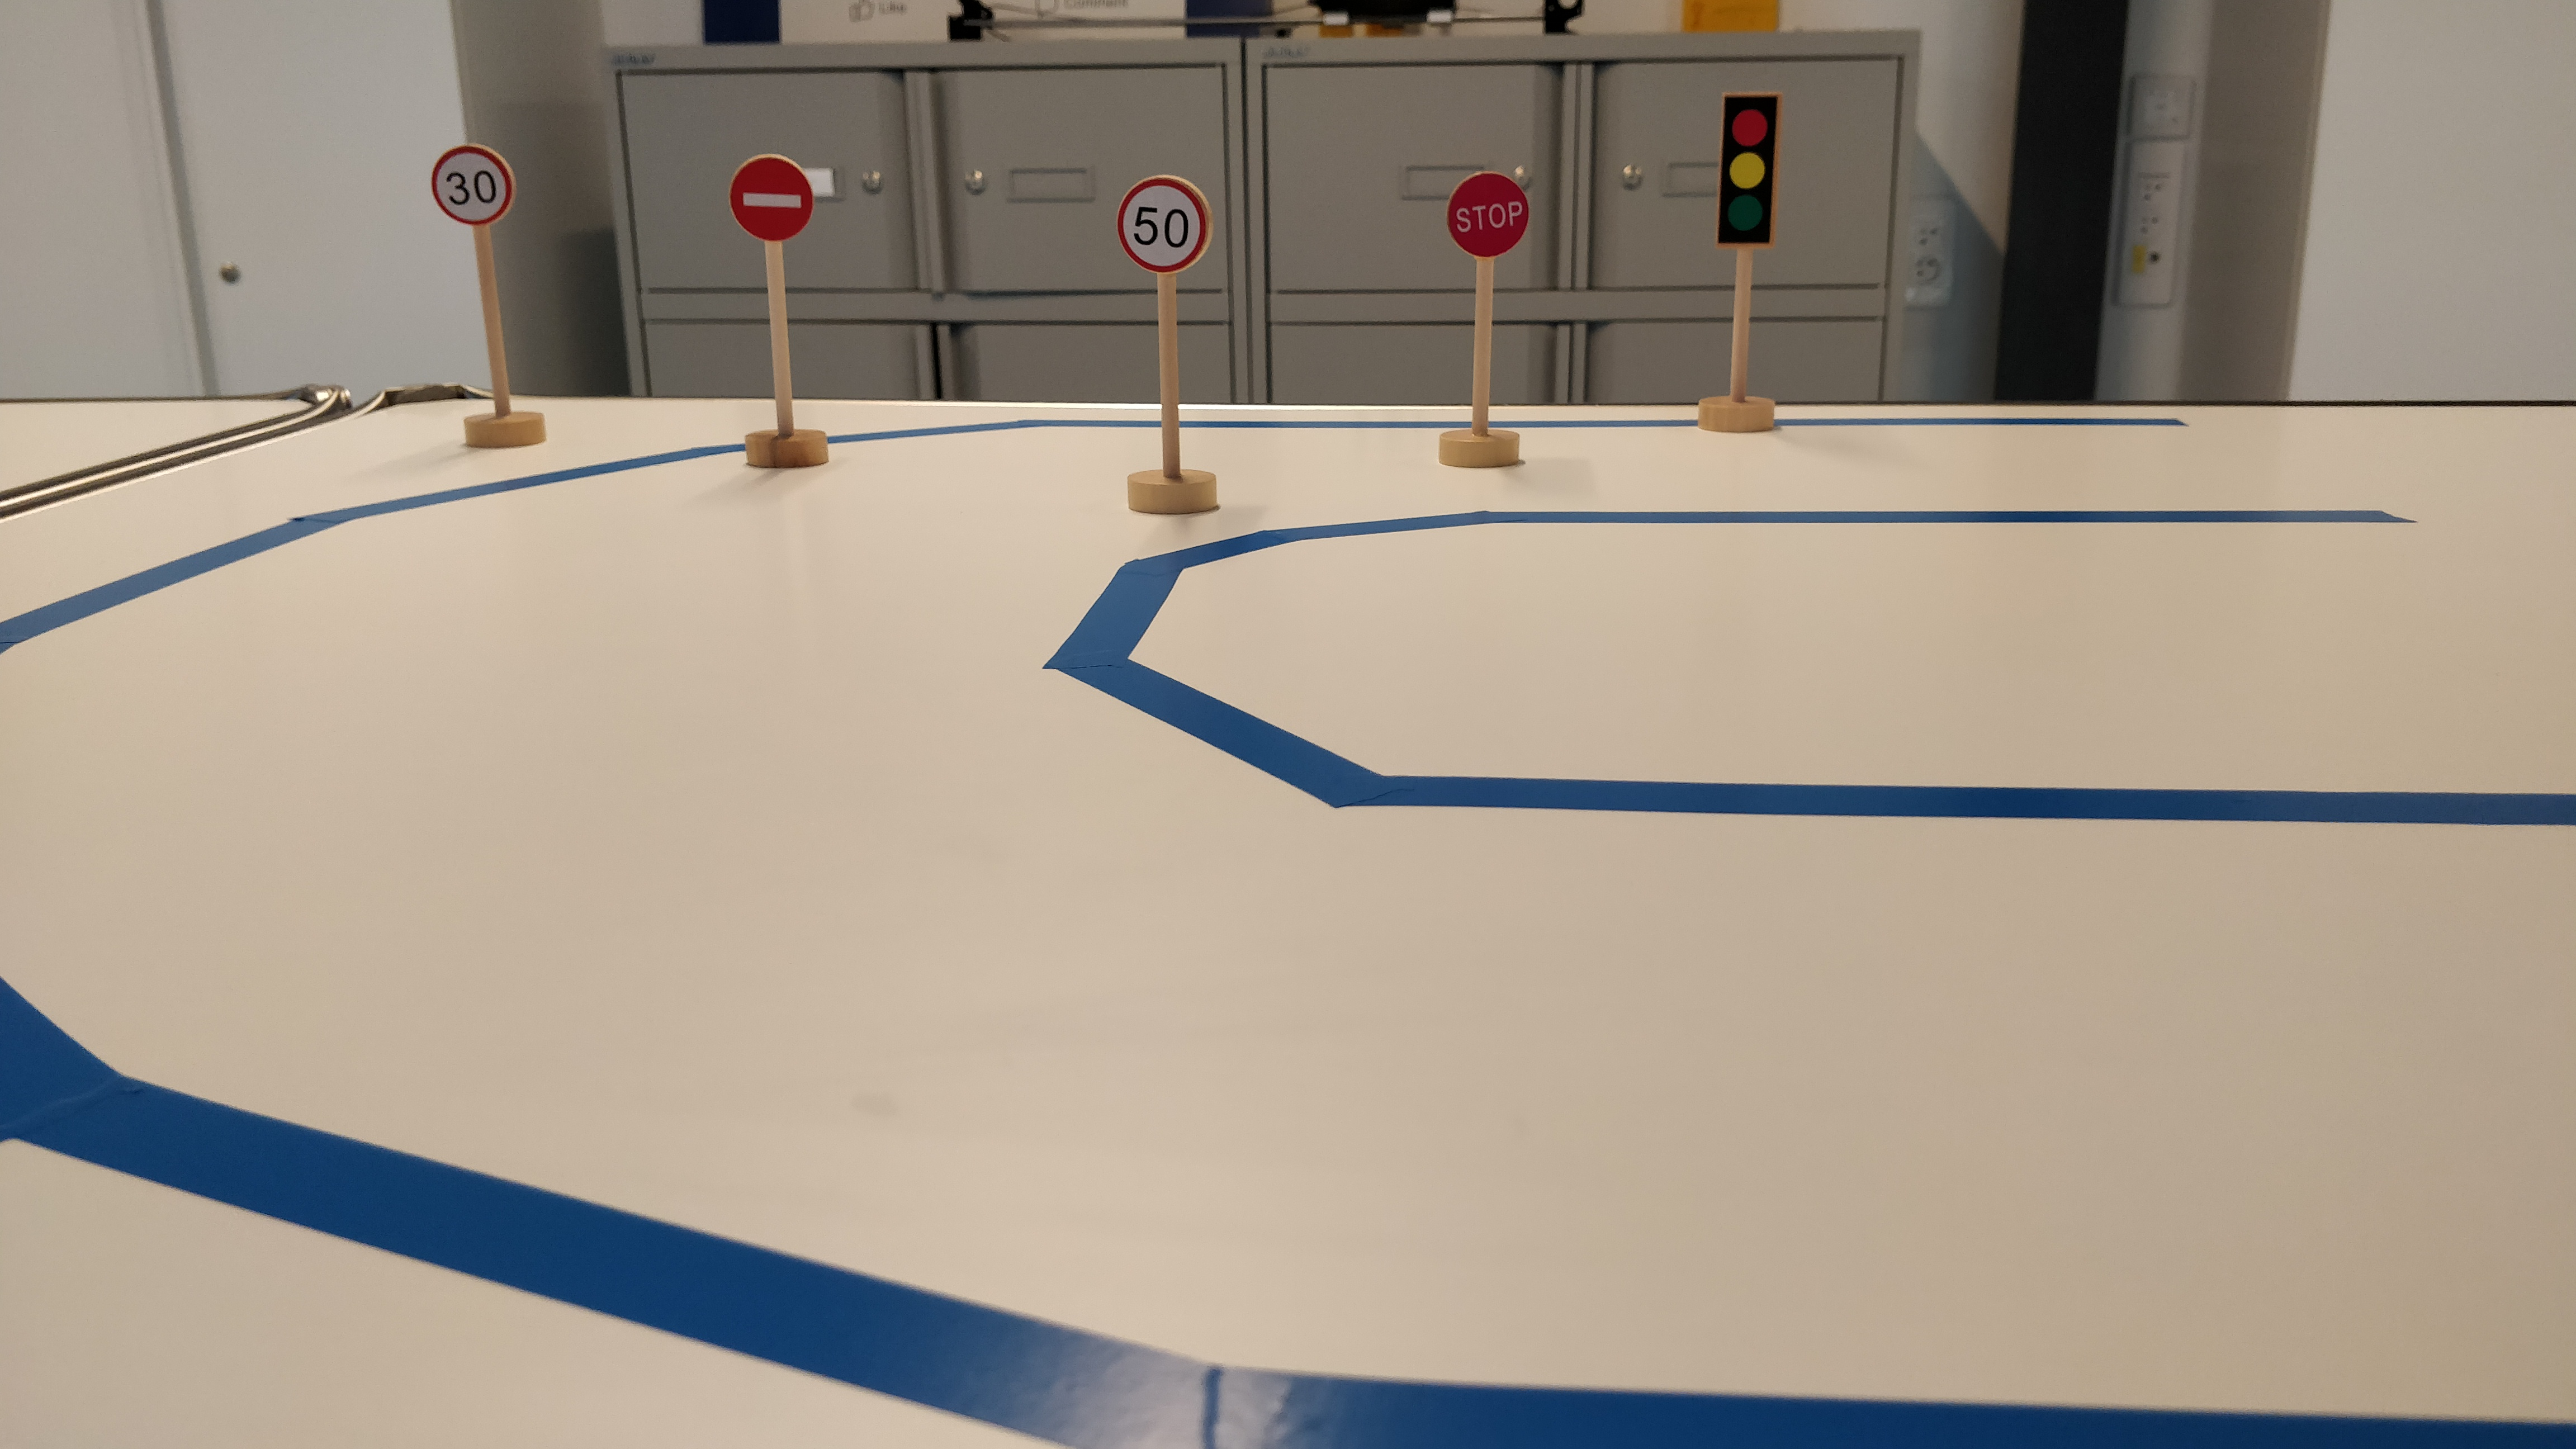Prohibition Sign: (726, 152, 816, 245)
Speed Limit 30: (430, 141, 517, 228)
Speed Limit 50: (1115, 172, 1216, 280)
Stop Sign: (1445, 170, 1532, 262)
Traffic Light: (1712, 87, 1786, 255)
